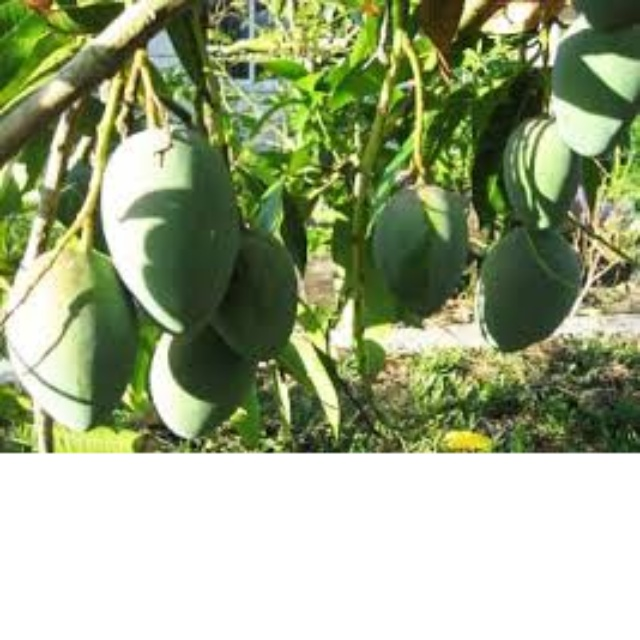thanh_long: (97, 114, 240, 334), (6, 247, 142, 438), (475, 219, 592, 357), (375, 175, 469, 325)
